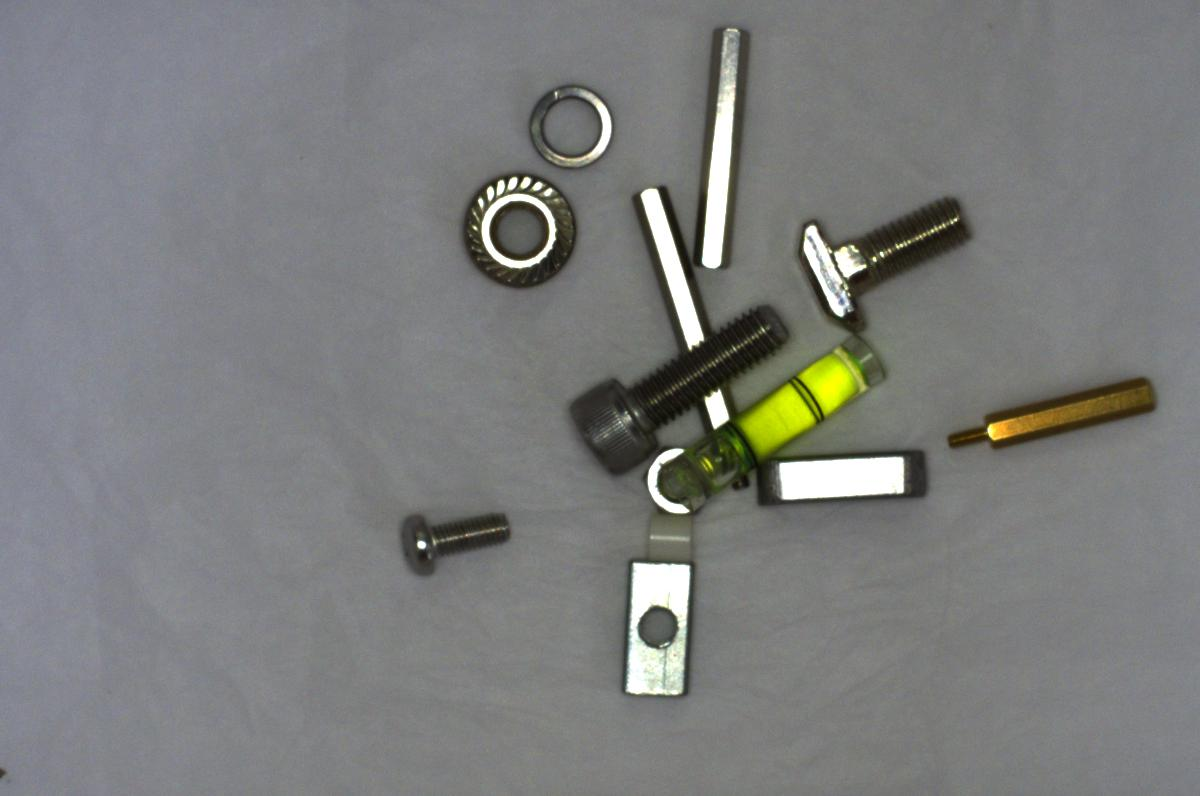Double hexagonal column: (688, 23, 751, 277)
Flange nut: (447, 169, 593, 298)
Hexagon nut: (639, 441, 714, 521)
Hexagon pillar: (935, 367, 1180, 455)
Hexagon screw: (570, 304, 810, 487)
Hexagonal steel column: (623, 176, 743, 450)
Horizontal bubble: (673, 335, 893, 500)
Keybar: (748, 441, 933, 519)
Plastic cushion pillar: (633, 504, 712, 568)
Rectangular nut: (614, 555, 701, 706)
Round head screw: (380, 496, 516, 586)
Spring washer: (517, 77, 623, 176)
T-shaped screw: (776, 199, 1003, 330)
